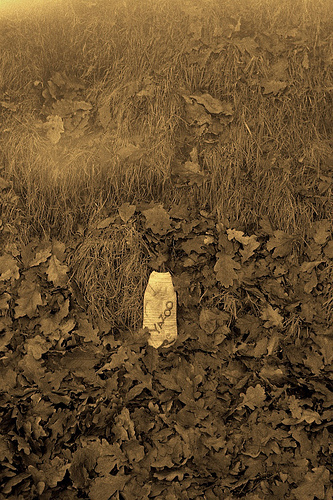litter: (143, 272, 180, 348)
